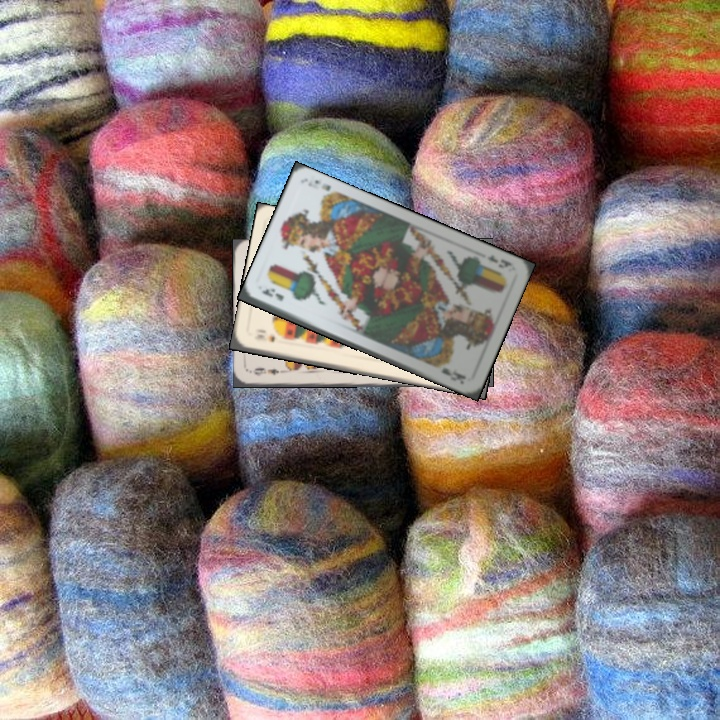E9: (249, 364, 288, 379)
EK: (482, 251, 517, 271), (257, 285, 286, 304)
S10: (250, 330, 278, 344)
